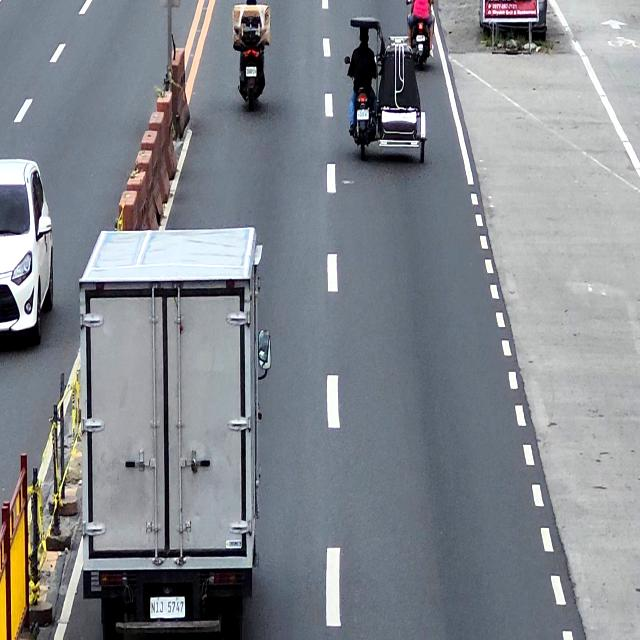Car: (0, 156, 54, 347)
License-Plate: (150, 597, 185, 619), (356, 110, 369, 120), (245, 66, 257, 76), (416, 34, 425, 41)
Motorcycle: (238, 13, 266, 114), (407, 0, 432, 72)
Tricycle: (344, 17, 427, 164)
Truck: (78, 228, 272, 640)
